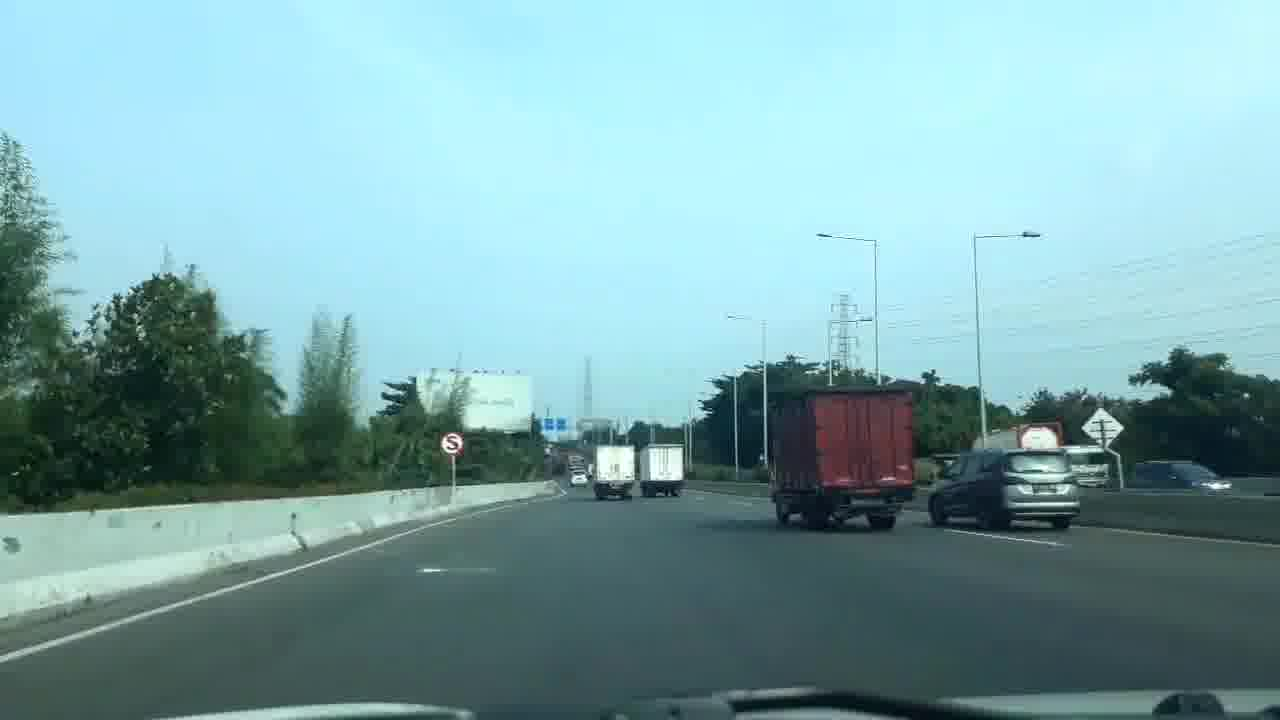plate_positive: (849, 496, 888, 505), (1032, 484, 1057, 494)
